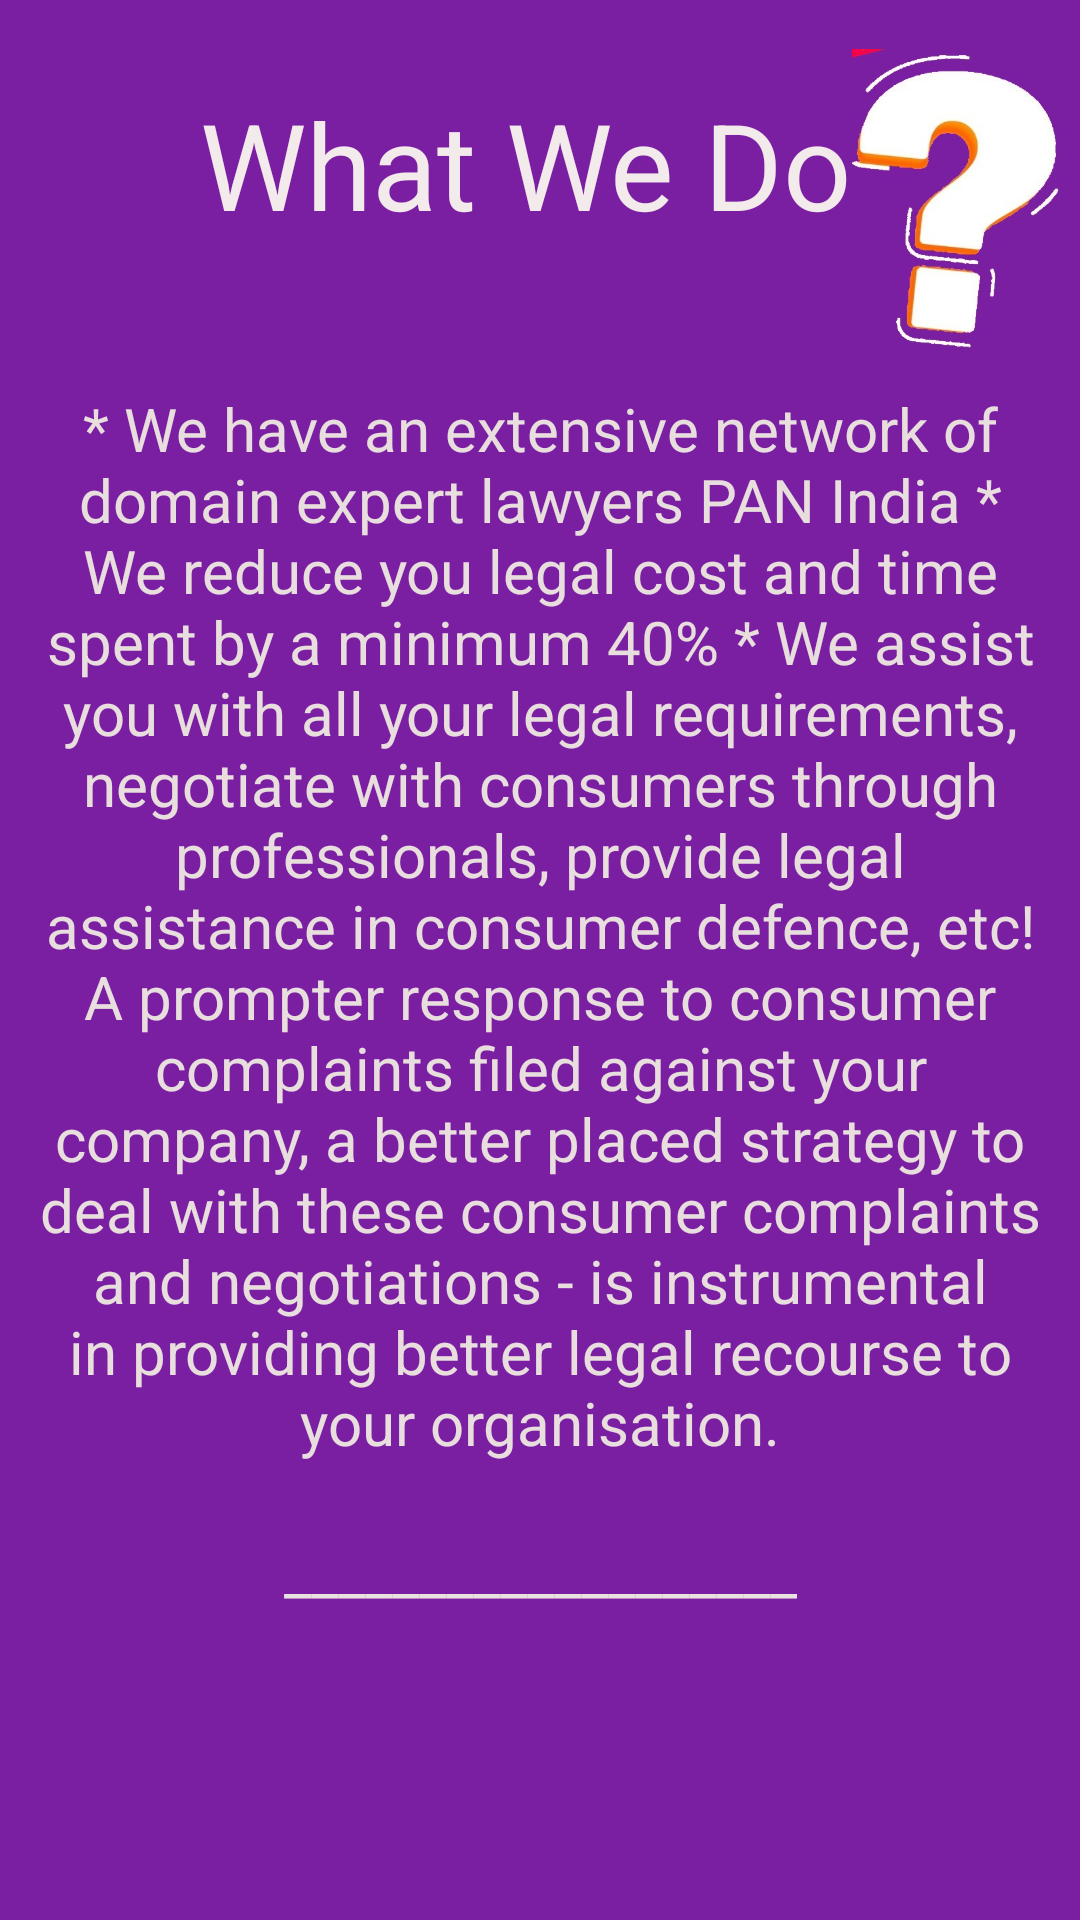

Named icons in this screenshot (1080x1920) and their bounding boxes, [left=x1, top=y1, right=x2, bottom=y2]:
que: [left=852, top=49, right=1058, bottom=348]
